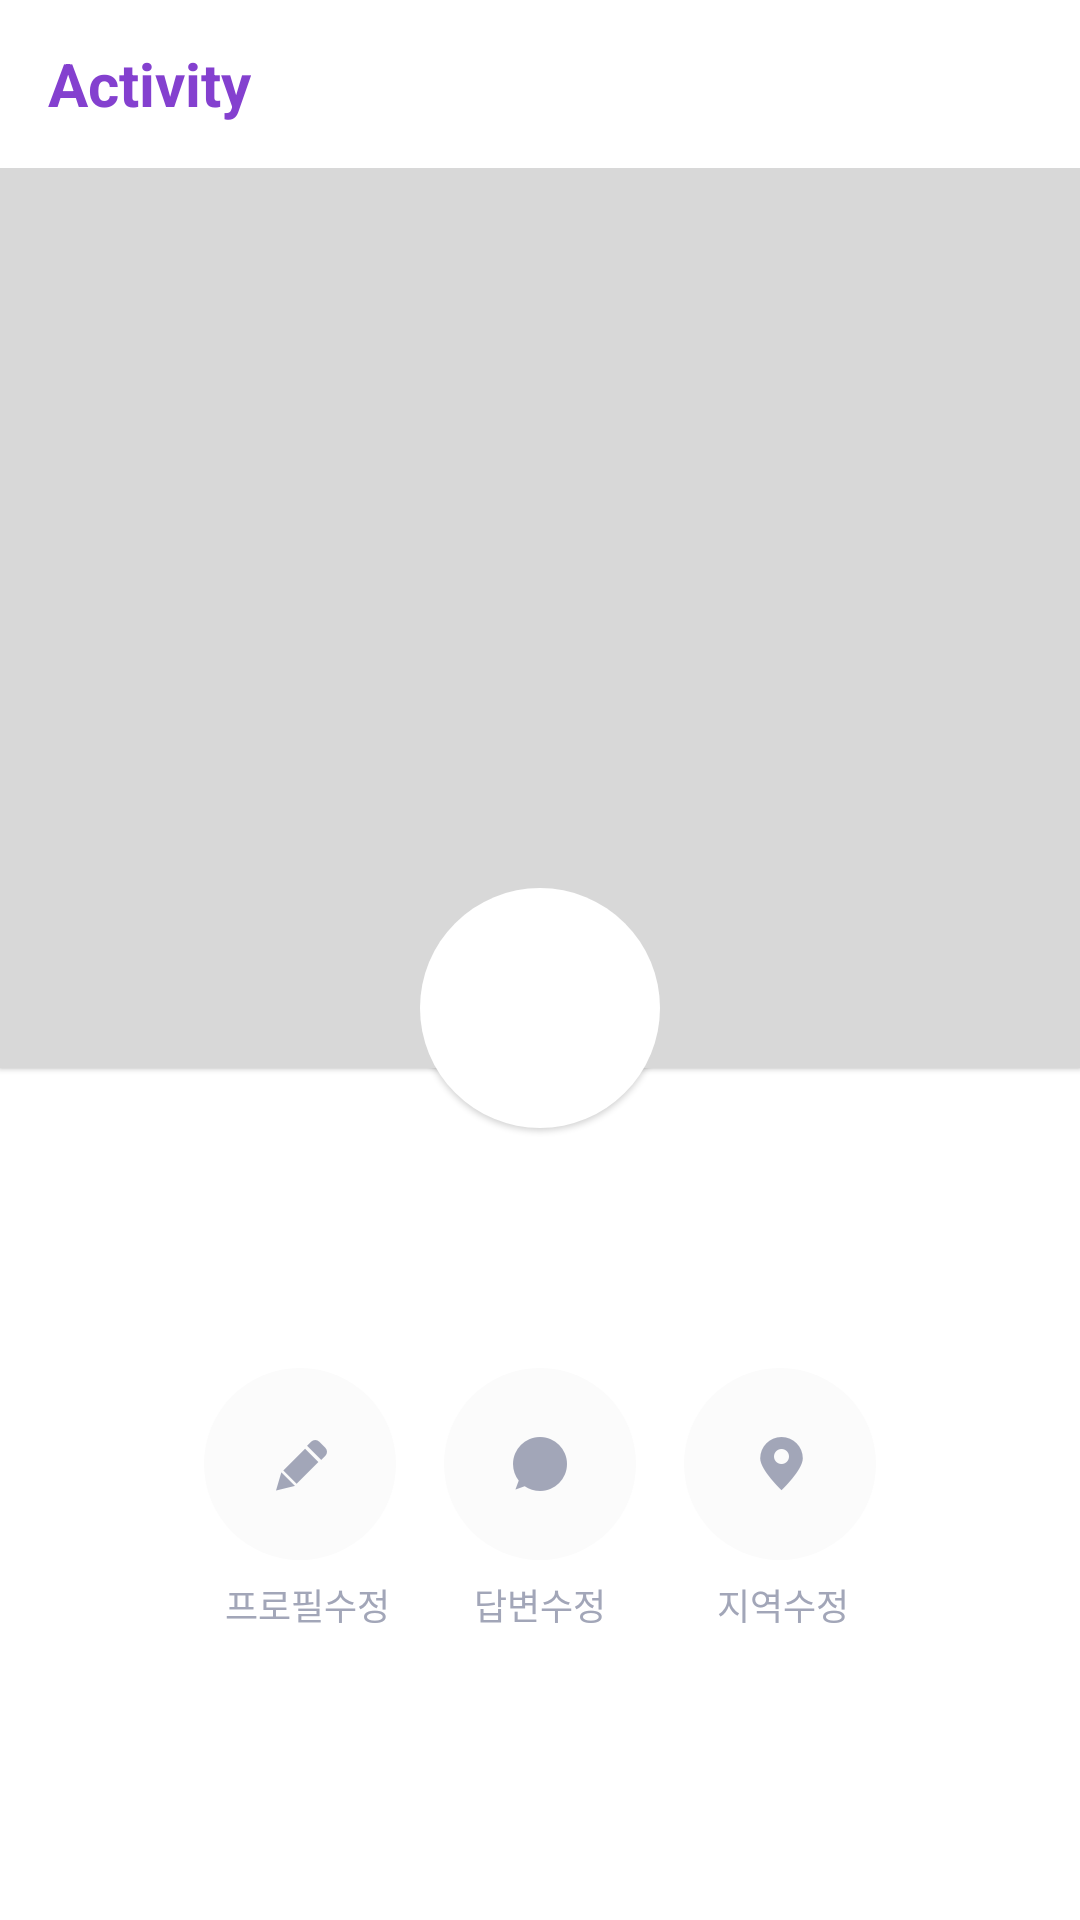

Point at icon controls on the screen. Image size 1080*1920, points as [x,y].
edit: [301,1465]
pin: [781,1463]
